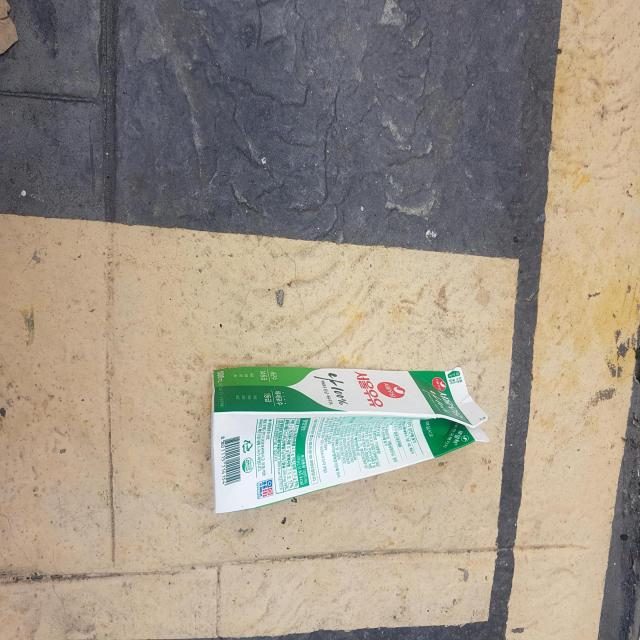paperpack: (211, 366, 489, 513)
